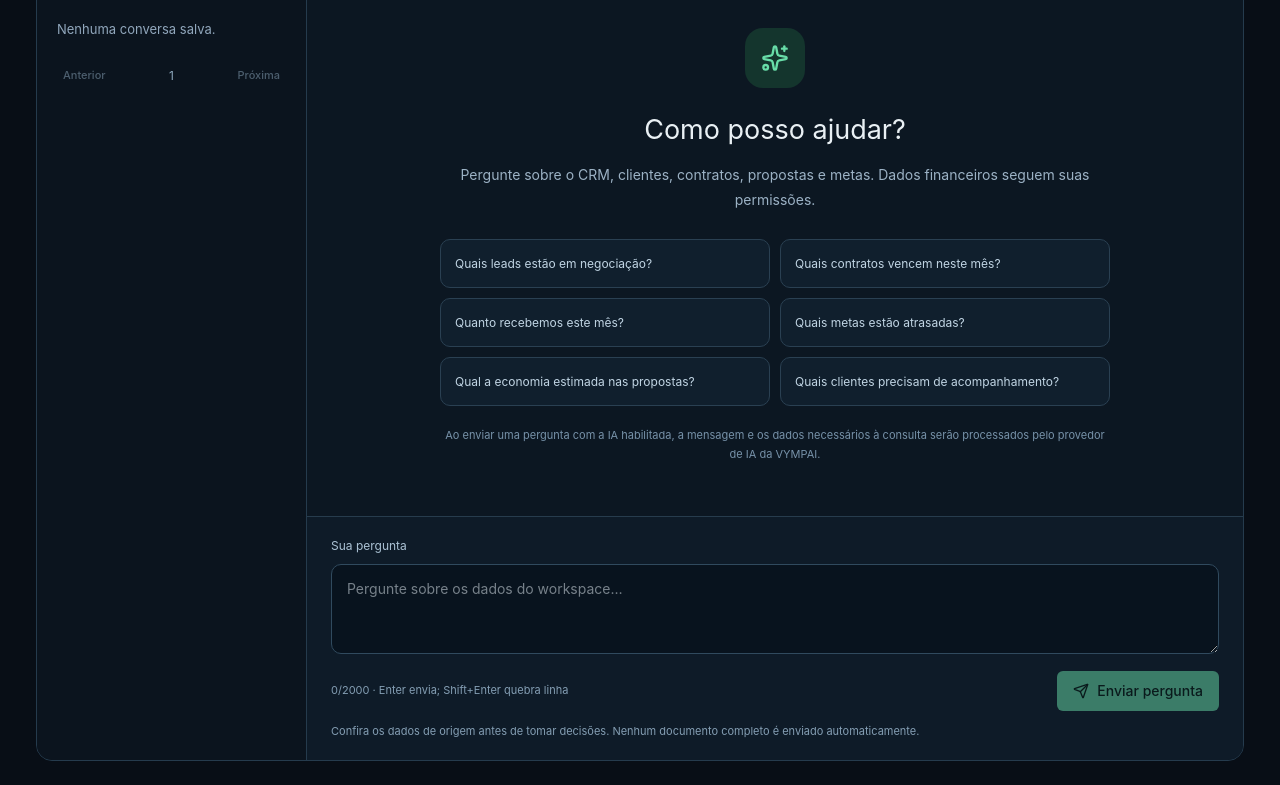
Test: VYMPAI › remove indicador após HTTP 429 sem tentar novamente
(page scrolled)
In the text box: (775, 608) [331,564,1219,654], type "Pergunta isolada"
Then press Enter
(page scrolled)
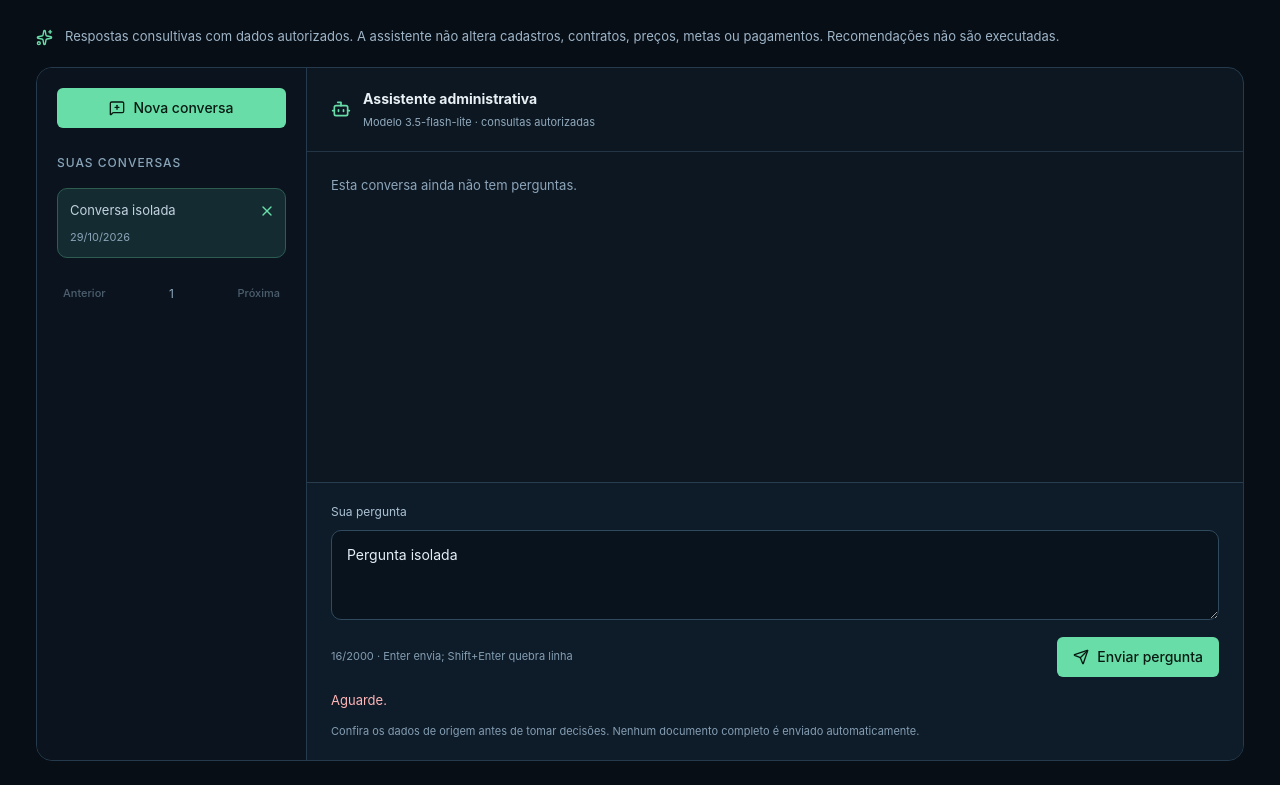
Expected: the text box is enabled, [331,530,1219,620]
Expected: the message "Aguarde." is shown, [331,692,387,708]
